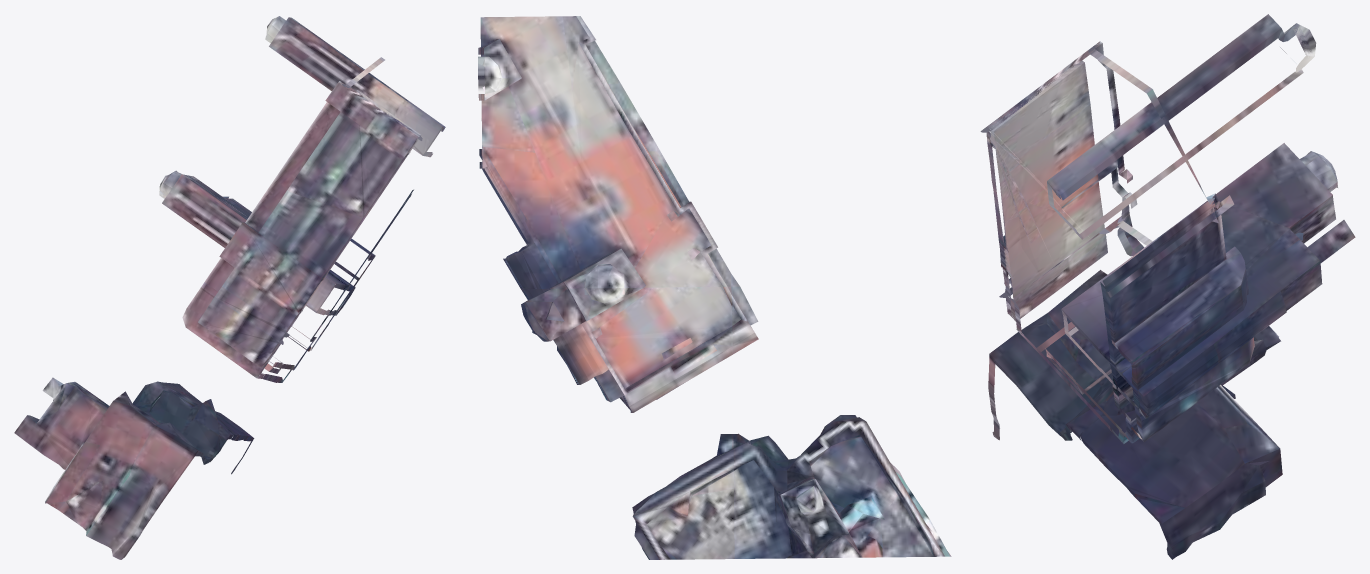
3 views of the same model, side by side, from view 1: azimuth 30°, elevation 25°; view 2: azimuth 150°, elevation 25°; view 3: azimuth 270°, elevation 25° (orthographic). The views are drawn at different scales.
Bounding box in the file's own units: 39.36 × 40.34 × 22.46.
Materials: 2 (2 with a texture image).
